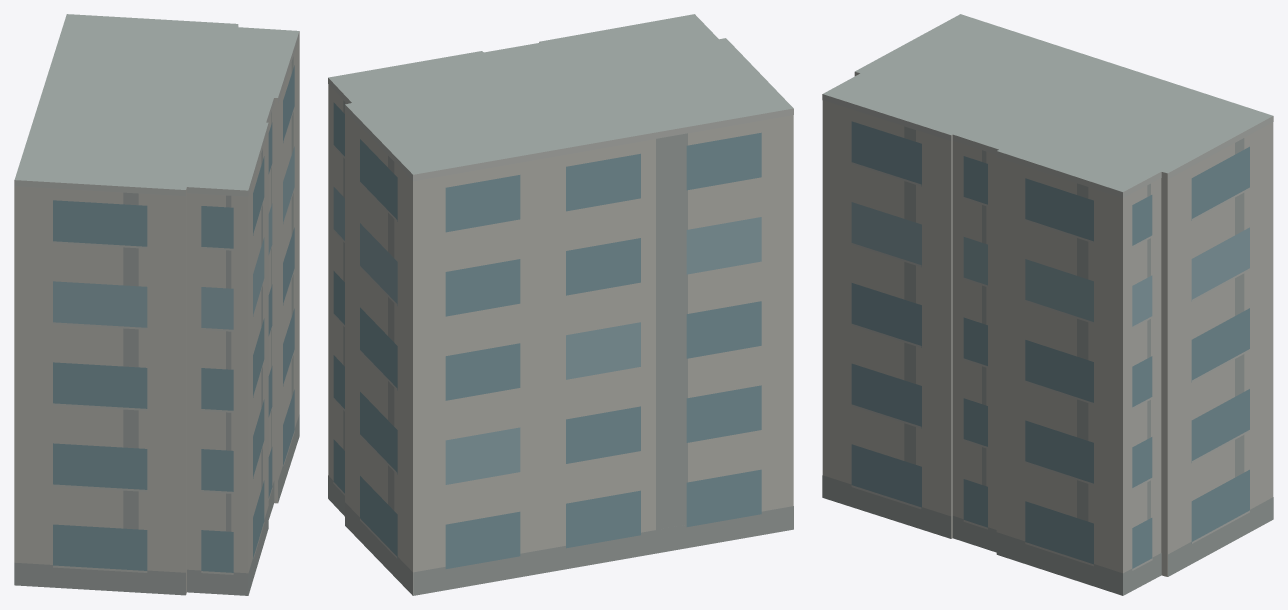
Rendered from survey-upis-32864875.glb.
3 renders of one model, left to right at view 1: azimuth 30°, elevation 25°; view 2: azimuth 150°, elevation 25°; view 3: azimuth 270°, elevation 25°, orthographic. The views are drawn at different scales.
Parts seen in each view (by area): view 1: survey-upis-32864875.tmp; view 2: survey-upis-32864875.tmp; view 3: survey-upis-32864875.tmp.
Part boxes in pixels (<box>): survey-upis-32864875.tmp: <box>14,14,299,595</box>; survey-upis-32864875.tmp: <box>328,14,793,595</box>; survey-upis-32864875.tmp: <box>822,14,1273,595</box>.
Size of the model in its own units: 15.15 by 16 by 16.2.
